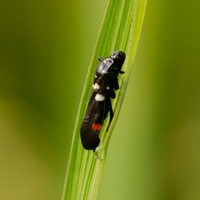insect: (80, 50, 125, 150)
